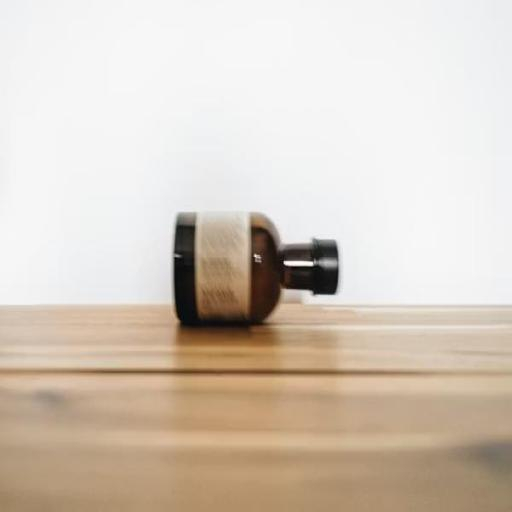bottle: (164, 198, 346, 342)
